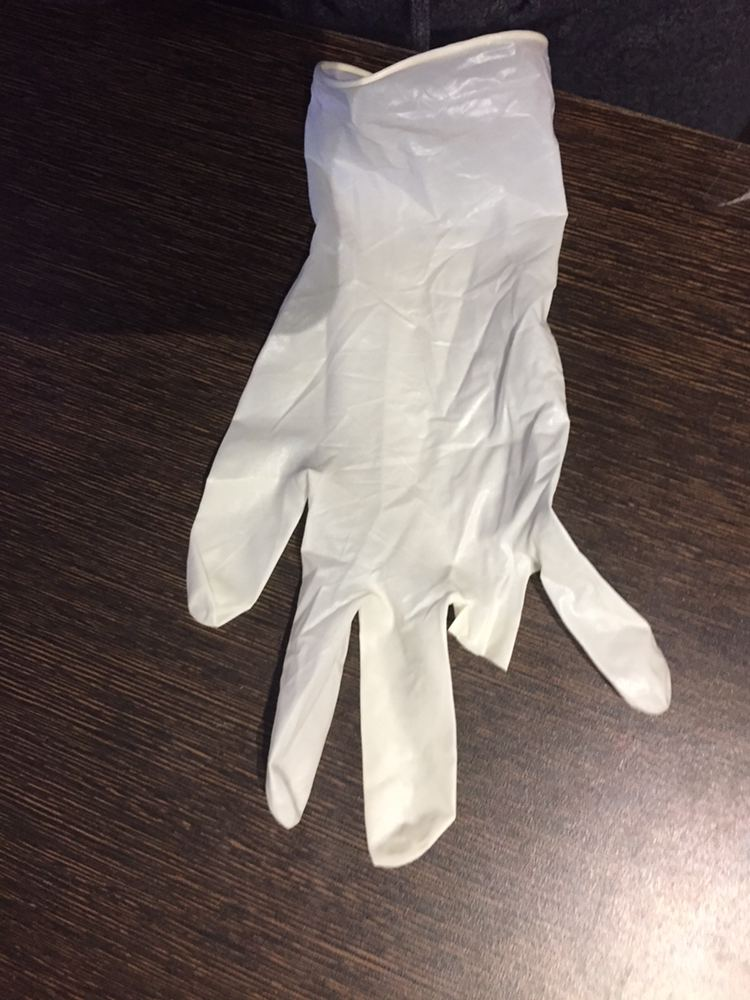defected: (165, 66, 715, 892)
